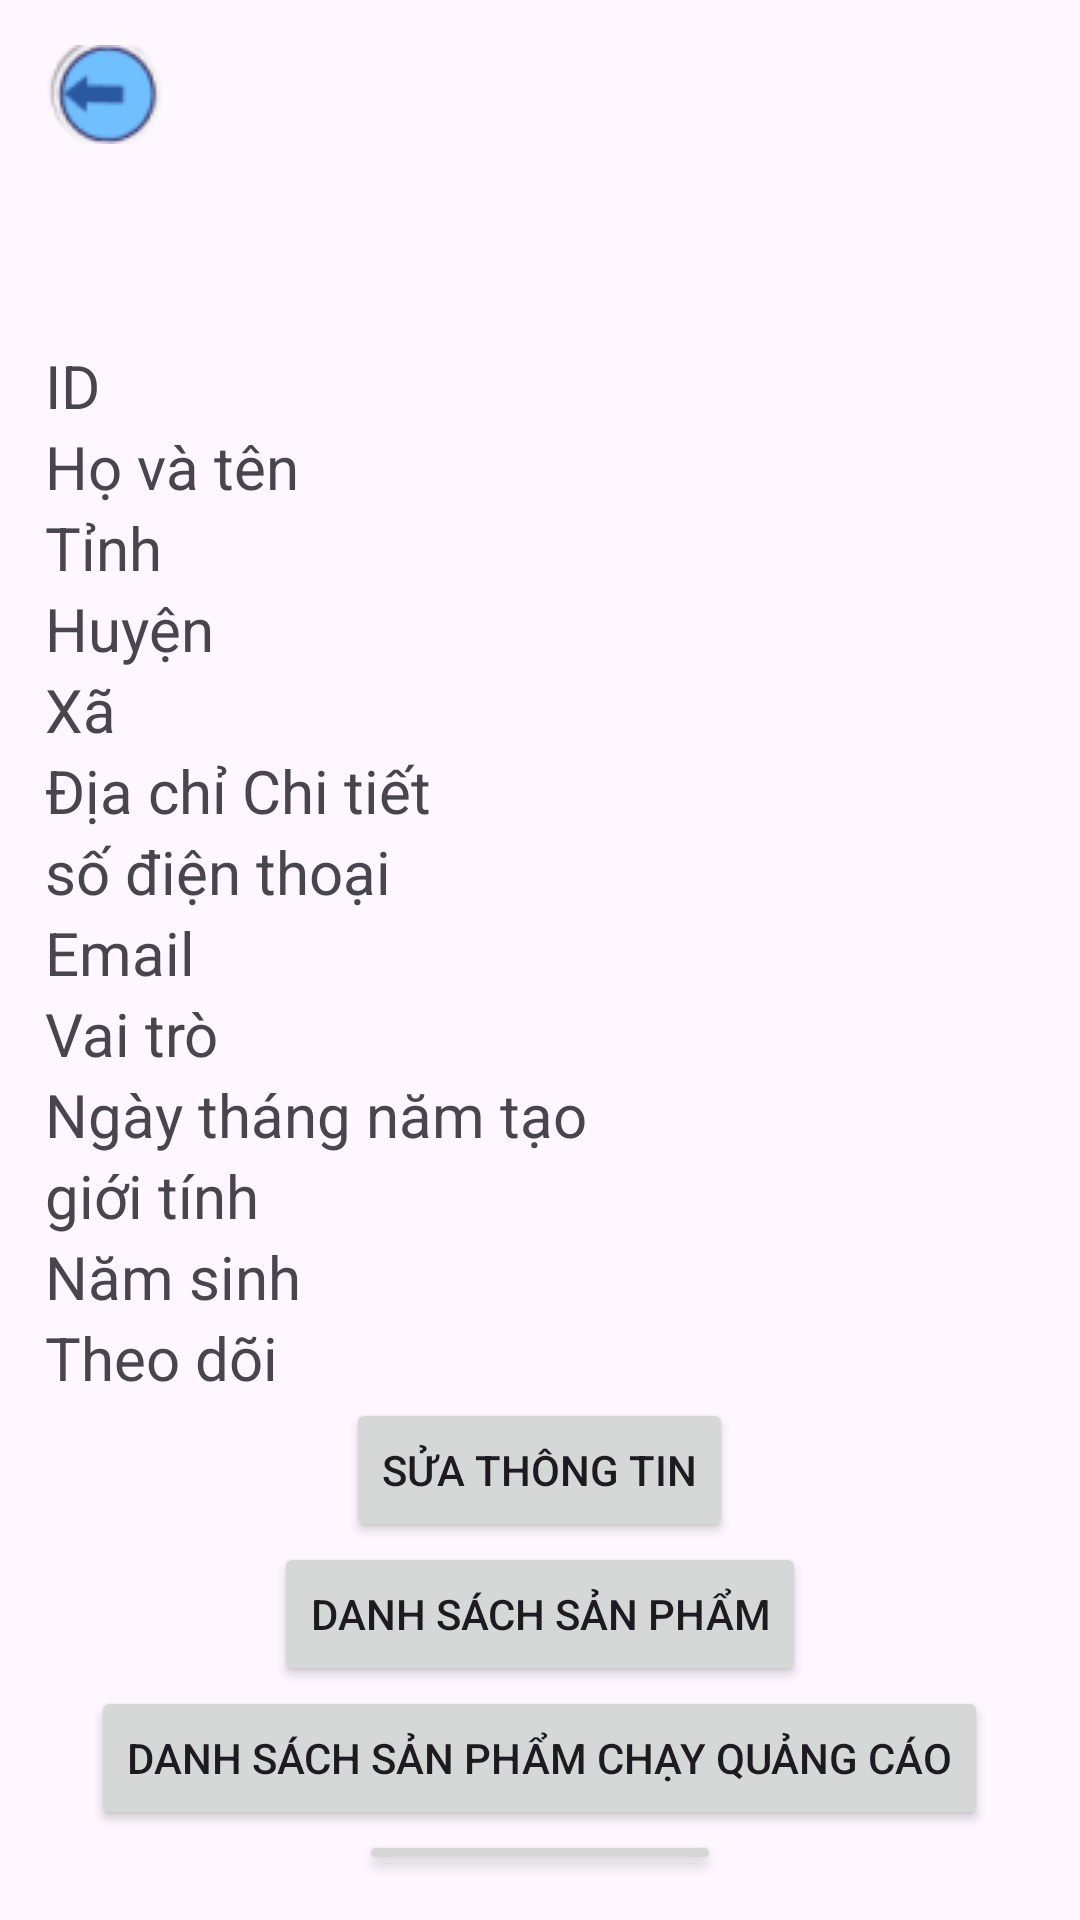

Icons on this 1080px x 1920px Android screen, each with its box as {"left": x1, "top": y1, "right": x2, "bottom": y2}:
thoat: {"left": 50, "top": 45, "right": 158, "bottom": 144}
